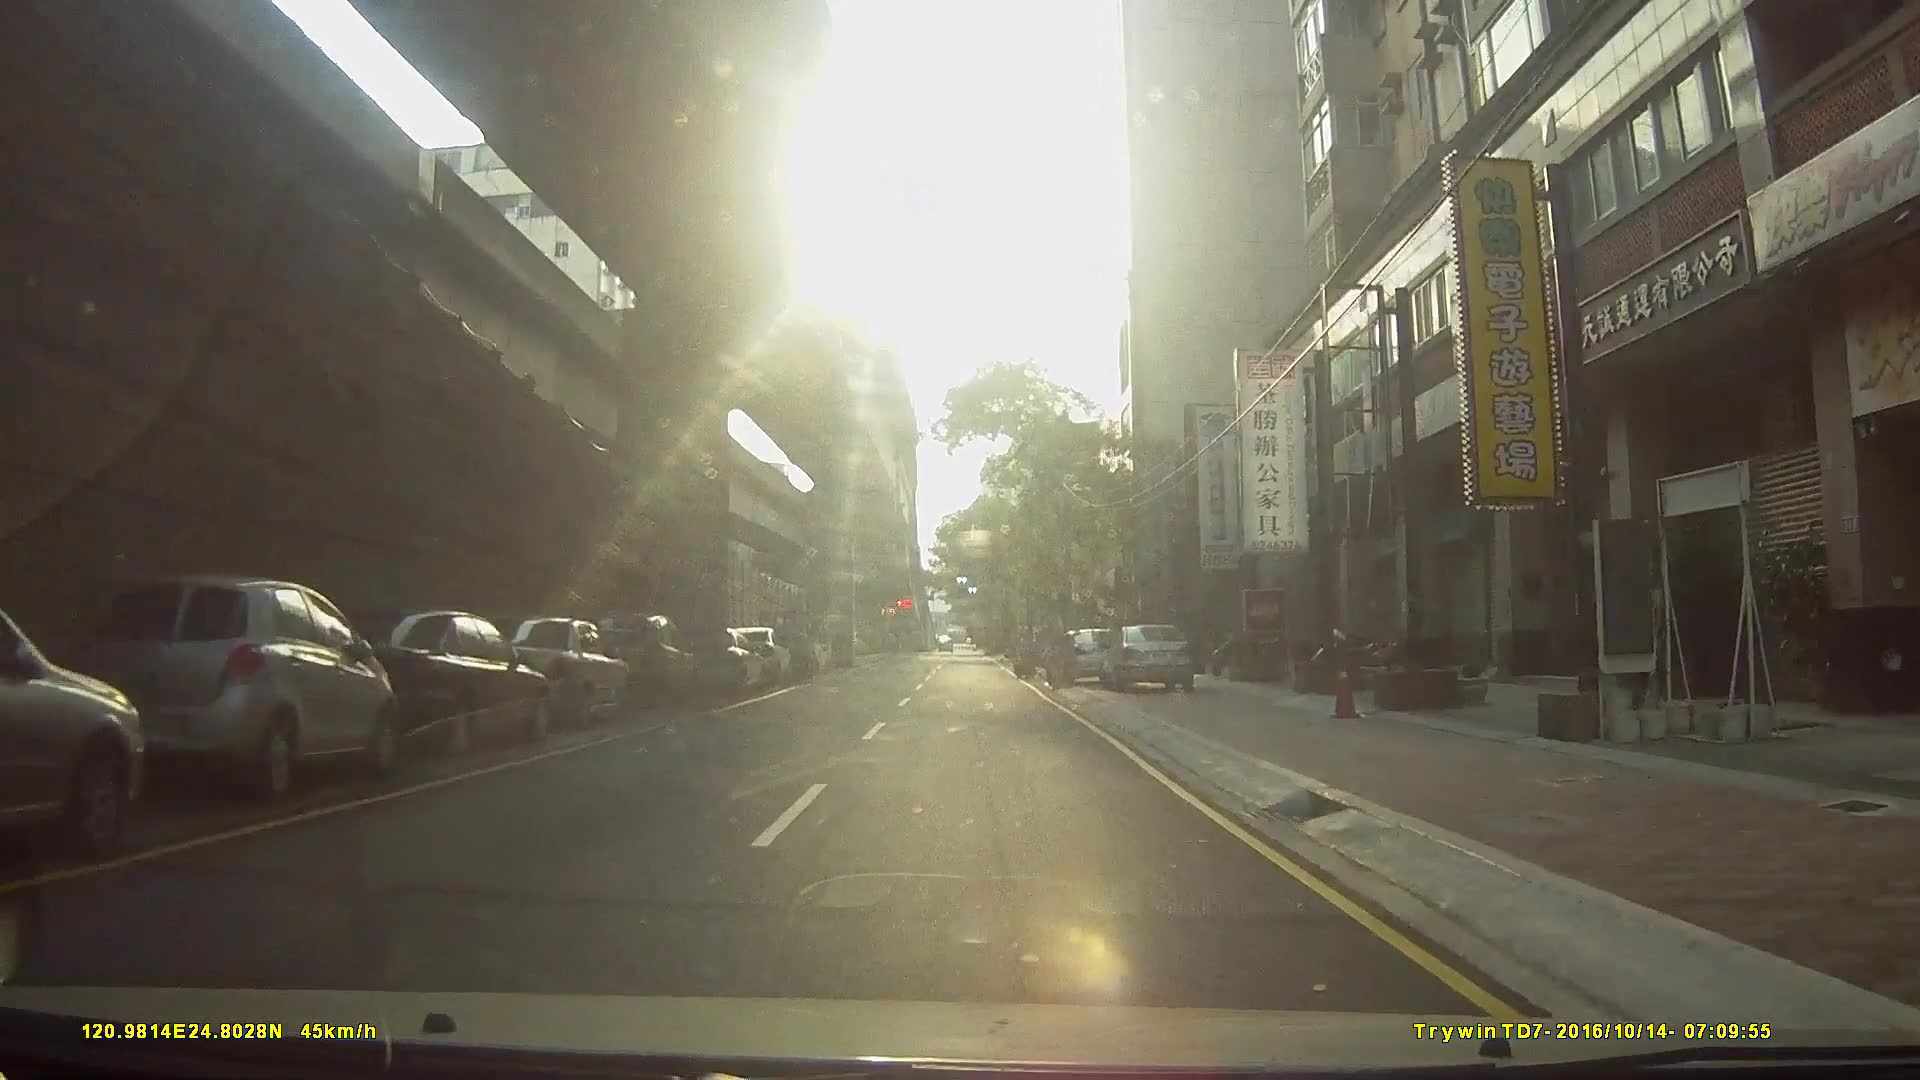vehicle: (46, 570, 381, 818), (1, 583, 152, 870), (326, 607, 539, 762), (476, 615, 626, 731), (579, 609, 698, 716), (1095, 621, 1197, 694), (1043, 628, 1124, 691), (756, 608, 812, 682), (973, 618, 1042, 655)
